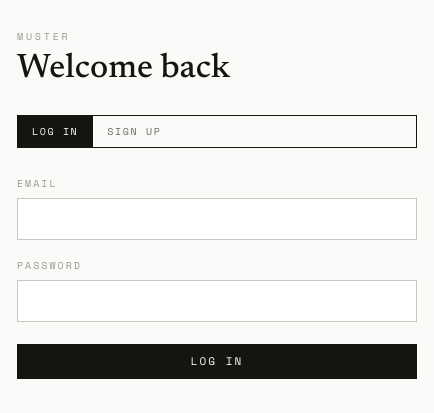
Test: AuthView › shows an inline error message when login fails
The image size is (434, 413).
Step 1. Type "kesh@x.io" into the field labelled "Email" → point(217, 219), box [17, 198, 417, 240]
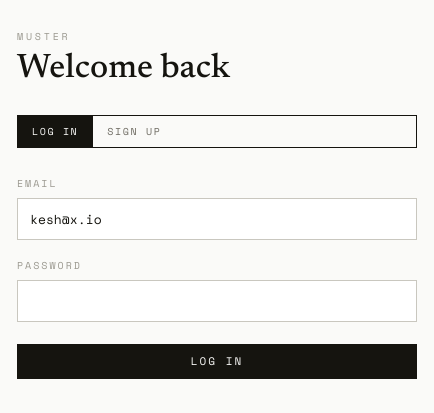
Step 2. Type "wrong" into the password field labelled "Password" → point(217, 301), box [17, 280, 417, 322]
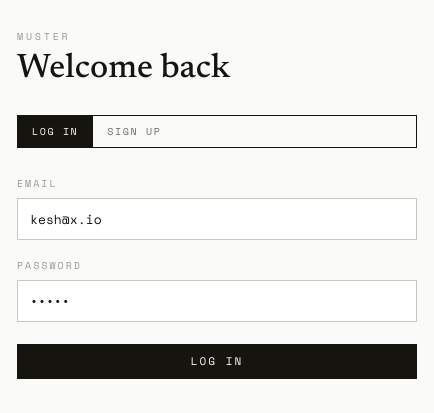
Step 3. Click the button "Log In" below "Password" → point(217, 362), box [17, 344, 417, 379]
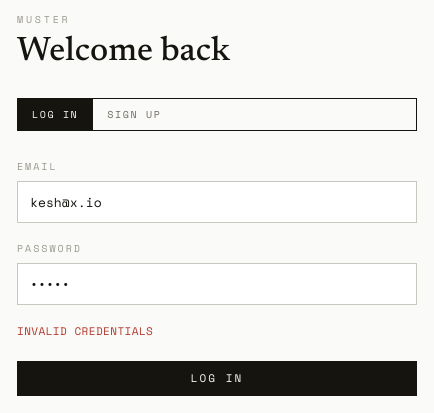
Expected: the message reads "Invalid credentials", [17, 323, 153, 339]
